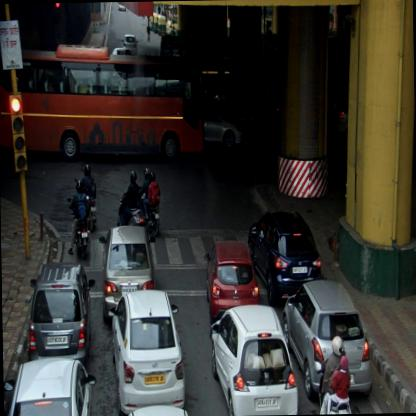bus: (0, 39, 207, 166)
car: (281, 280, 374, 400), (208, 300, 297, 416), (107, 288, 186, 414), (246, 210, 322, 306), (26, 261, 96, 358), (2, 356, 96, 415), (99, 225, 156, 321), (202, 241, 261, 320), (204, 104, 246, 147), (121, 34, 138, 54)
motorcycle: (316, 334, 352, 414), (64, 180, 88, 260), (136, 166, 161, 237), (115, 171, 144, 226), (80, 164, 96, 231)
